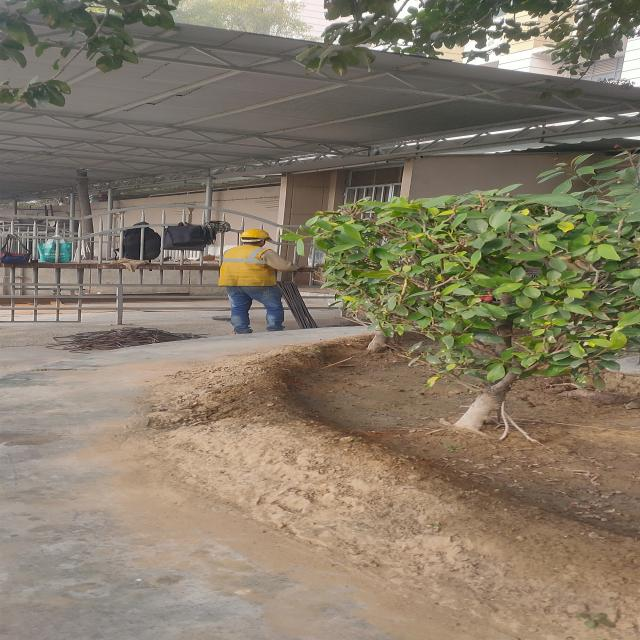safe: (220, 228, 292, 329)
